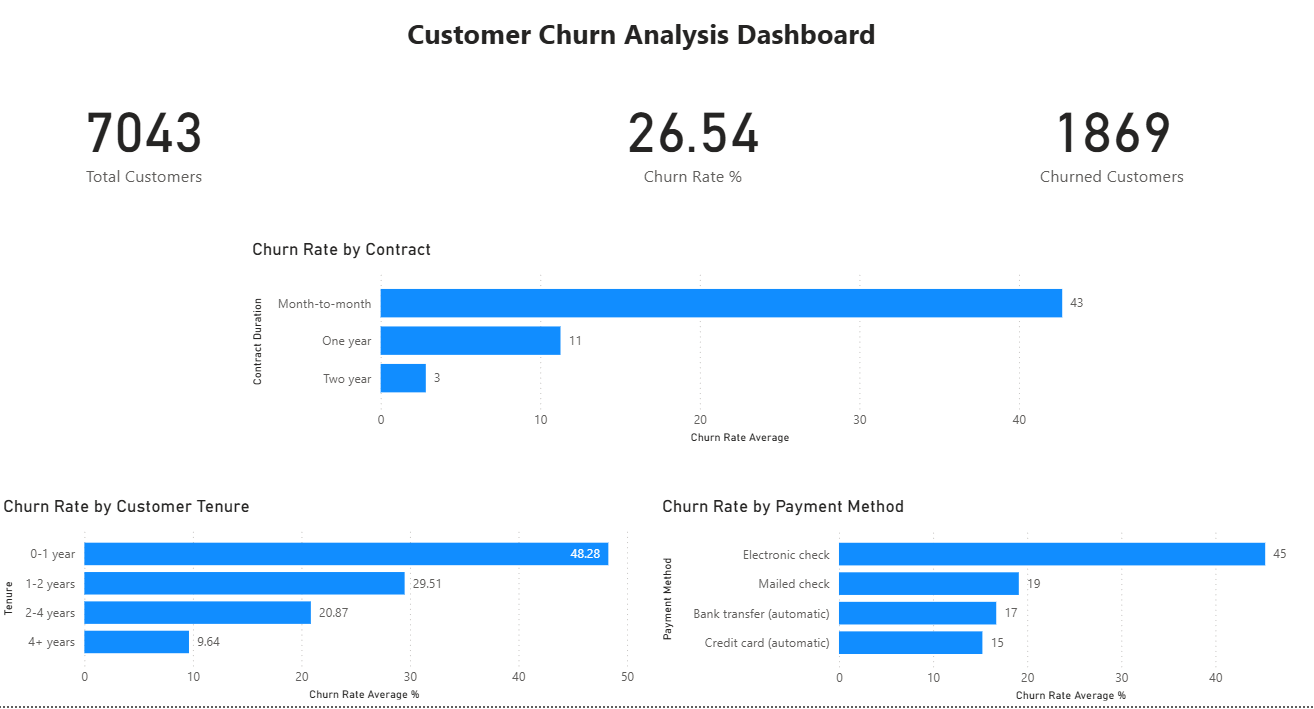

This screenshot's page, from the dashboard's own definition file:
{"tool":"powerbi","page":{"name":"Page 1","canvas":[1280,720],"ordinal":0},"visuals":[{"type":"card","fields":{"Values":["Sum(public vw_churn_by_payment.total_customers)"]},"box":[41.8,65.2,200.4,200.4],"z":0},{"type":"clusteredBarChart","title":"Churn Rate by Payment Method","fields":{"Y":["Avg(public vw_churn_by_payment.churn_rate_pct)"],"Category":["public vw_churn_by_payment.payment_method"]},"box":[640.5,516,640.5,204.1],"z":0,"group":"g1"},{"type":"card","fields":{"Values":["Sum(public vw_churn_kpi.churned_customers)"]},"box":[983.3,65.2,200.4,200.4],"z":1000},{"type":"clusteredBarChart","title":"Churn Rate by Customer Tenure","fields":{"Y":["Avg(public vw_churn_by_tenure.churn_rate_pct)"],"Category":["public vw_churn_by_tenure.tenure_group"]},"box":[0,515.5,641,203.3],"z":1000,"group":"g1"},{"type":"card","fields":{"Values":["Sum(public vw_churn_kpi.churn_rate_pct)"]},"box":[539.7,65,272.3,199.9],"z":2000},{"type":"clusteredBarChart","title":"Churn Rate by Contract","fields":{"Category":["public vw_churn_by_contract.contract"],"Y":["Avg(public vw_churn_by_contract.churn_rate_pct)"]},"box":[242.2,265.5,841.3,203.3],"z":3000},{"type":"group","id":"g1","title":"Group 1","box":[0,515.5,1281,204.6],"z":4000},{"type":"textbox","box":[392.5,41.7,539.7,62.6],"z":5000}]}

Visuals, with their boxes on the page's 1280x720 design canvas (x1, y1, x2, y2). These are canvas units, not pixel positions in the 1314x709 screenshot, which may show the page scaled, cropped or inside an application window:
card - Sum(public vw_churn_by_payment.total_customers): BBox(42, 65, 242, 266)
"Churn Rate by Payment Method" clusteredBarChart: BBox(640, 516, 1281, 720)
card - Sum(public vw_churn_kpi.churned_customers): BBox(983, 65, 1184, 266)
"Churn Rate by Customer Tenure" clusteredBarChart: BBox(0, 516, 641, 719)
card - Sum(public vw_churn_kpi.churn_rate_pct): BBox(540, 65, 812, 265)
"Churn Rate by Contract" clusteredBarChart: BBox(242, 266, 1084, 469)
"Group 1" group: BBox(0, 516, 1281, 720)
textbox: BBox(392, 42, 932, 104)
